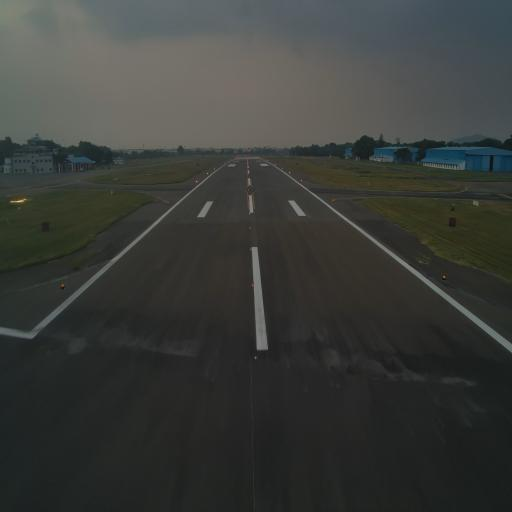on: (59, 281, 66, 290), (250, 280, 255, 290), (442, 271, 446, 281), (248, 244, 253, 252), (254, 351, 257, 363)
